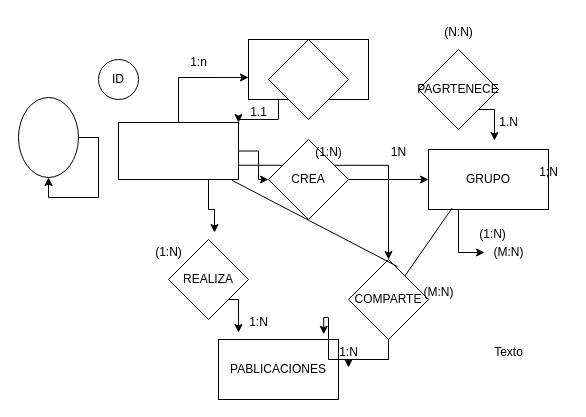
Image size: 586x417. Some labels were removed from this diagram. Here are the shapes that lost their labels. From the top down, the centre of each, then its label:
At [308,79]: "AMIGO".
At [48,137]: "norteMBRE".
At [178,151]: "USUARIO".
